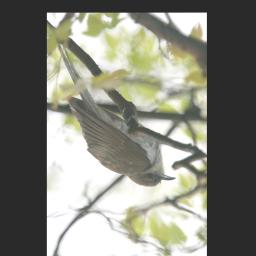Cuckoo: (56, 39, 175, 187)
